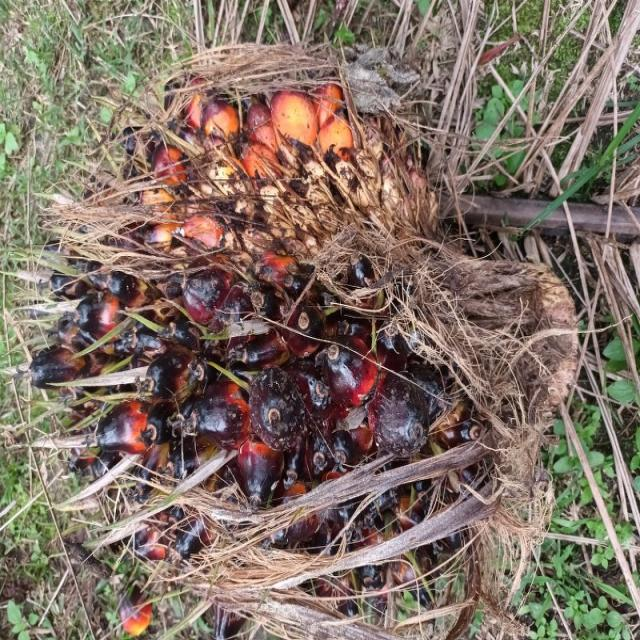fraksi 1: (29, 51, 419, 640)
